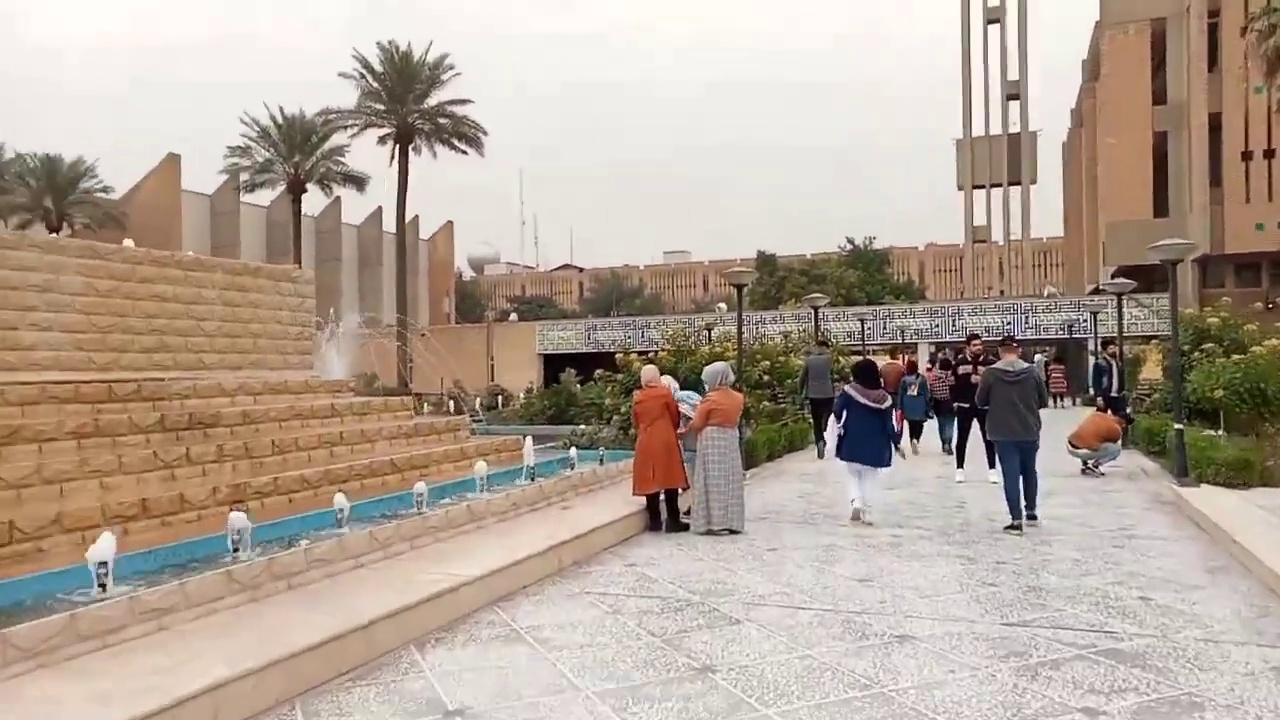fountain: (4, 432, 632, 628), (308, 305, 590, 445)
person: (973, 335, 1047, 533), (831, 358, 896, 525), (630, 363, 690, 532), (689, 360, 746, 534), (949, 333, 1001, 483), (1065, 396, 1127, 476), (797, 338, 834, 459), (84, 529, 117, 595), (225, 500, 252, 555), (332, 487, 351, 529)
tree: (313, 37, 488, 387), (218, 100, 370, 267), (1155, 294, 1278, 435), (742, 234, 926, 309), (0, 147, 129, 238), (1238, 0, 1279, 113), (583, 271, 644, 317)
